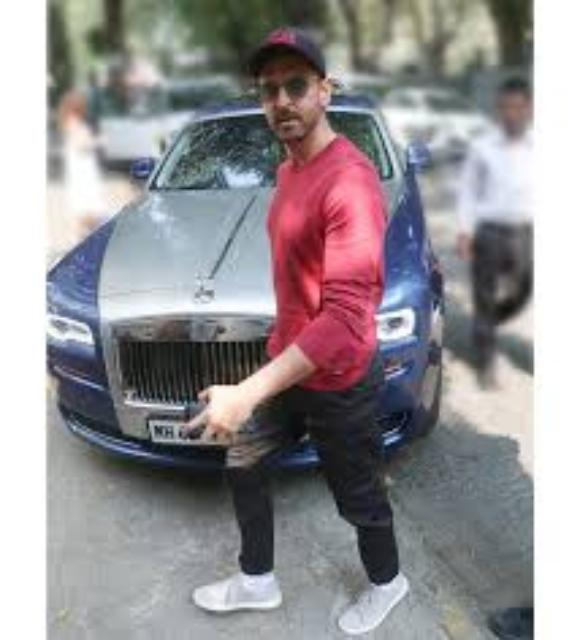rolls-royce: (47, 90, 443, 473)
